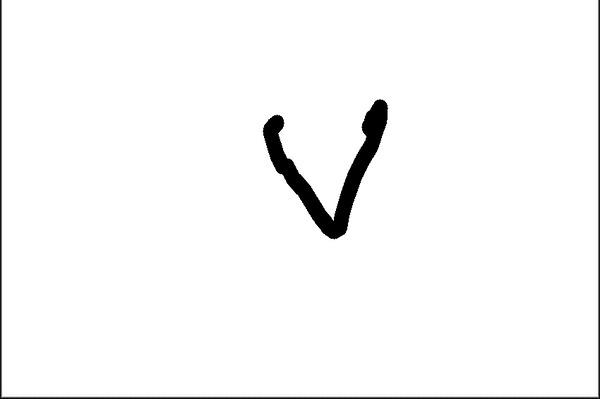V: (244, 89, 397, 243)
